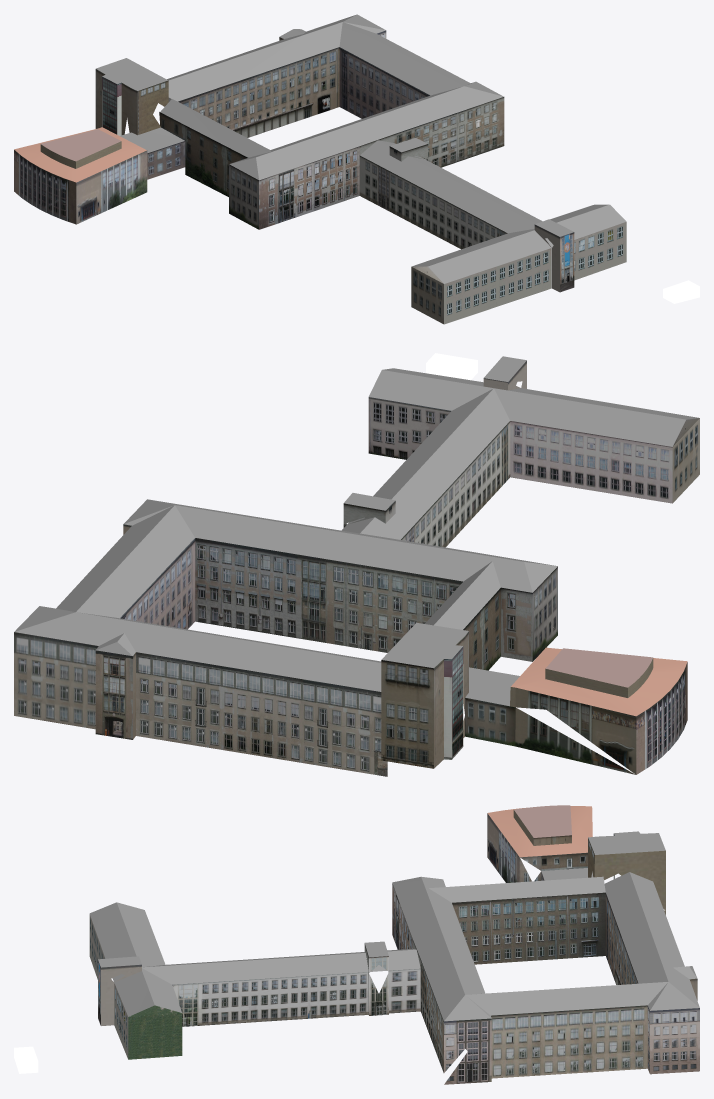
File: Barkhausen-Bau.glb
The picture shows the model from 3 angles, top to bottom: view 1: azimuth 30°, elevation 25°; view 2: azimuth 150°, elevation 25°; view 3: azimuth 270°, elevation 25°; orthographic projection. The views are drawn at different scales.
Parts seen in each view (by area): view 1: Dach.1; view 2: Dach.1; view 3: Dach.1.
Part boxes in pixels (x1,y1,x2,y2): Dach.1: (14, 14, 699, 324); Dach.1: (14, 353, 699, 776); Dach.1: (14, 805, 699, 1084).
Size of the model in its own units: 147 by 29.5 by 196.
Materials: 59 (55 with a texture image).
